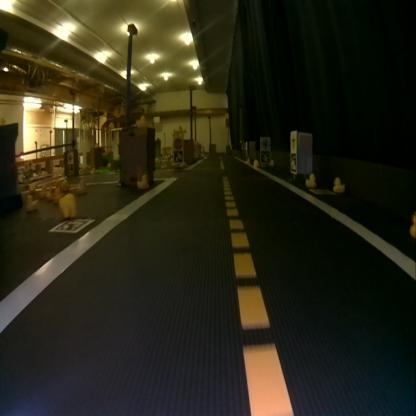Duckie: (59, 194, 77, 218), (26, 194, 38, 211), (137, 173, 150, 188), (332, 176, 343, 192), (134, 116, 146, 128), (76, 178, 86, 192), (305, 174, 316, 186), (253, 158, 256, 166)
Intersection sign: (290, 133, 296, 148)
QR code: (53, 217, 93, 232), (259, 150, 269, 163), (290, 152, 295, 174), (174, 152, 182, 162)
Stop sign: (173, 136, 182, 147)
